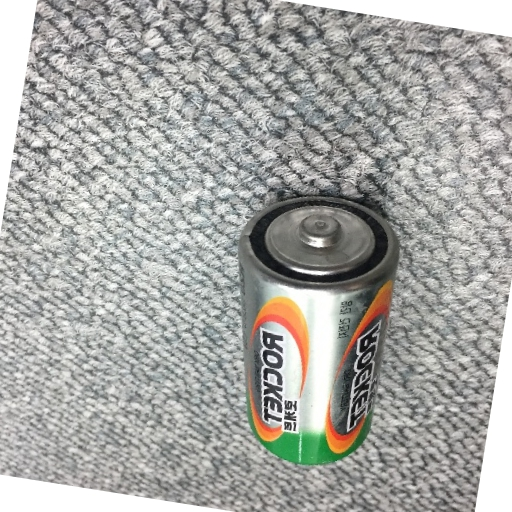Battery_0: (230, 189, 408, 475)
